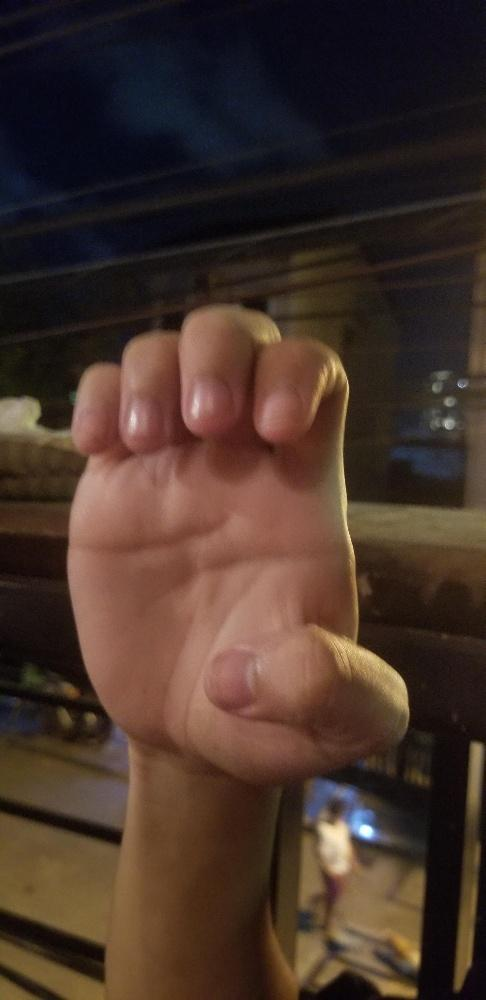e: (61, 305, 413, 792)
